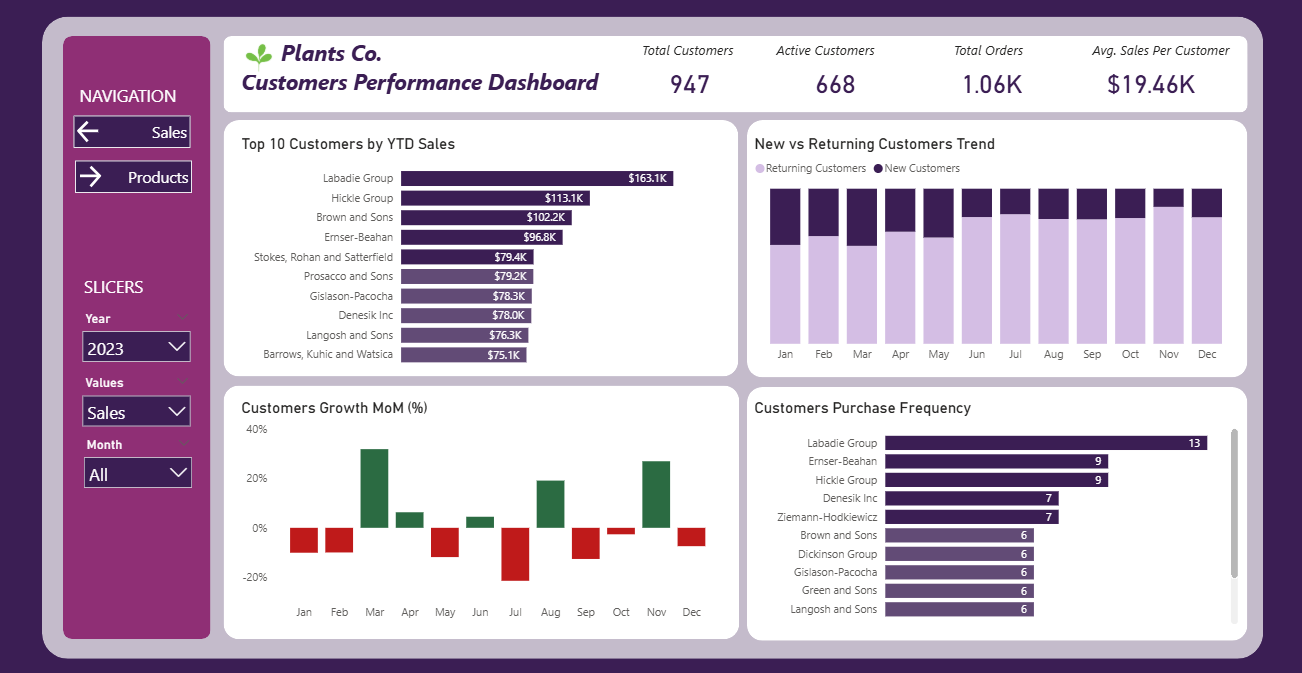

What the dashboard file says about the page in this screenshot:
{"tool":"powerbi","page":{"name":"Customers Performance","canvas":[1450,750],"ordinal":1},"visuals":[{"type":"shape","box":[47.1,17.6,1356.9,713.7],"z":0},{"type":"shape","box":[70,40,164,670],"z":1000},{"type":"shape","box":[248,40,1138,85],"z":2000},{"type":"textbox","box":[264,36,412,98],"z":3000},{"type":"image","box":[218.3,40,138.3,48.3],"z":4000},{"type":"cardVisual","fields":{"Data":["_Measures.Total_Customers","_Measures.Active_Customers_YTD","_Measures.Total Orders","_Measures.Avg_Sales_per_ActiveCustomer_YTD"]},"box":[726.2,60,660,60],"z":5000},{"type":"textbox","box":[698.3,40,131.7,50],"z":6000},{"type":"textbox","box":[834,40,168,58],"z":7000},{"type":"textbox","box":[1200,40,180,57.5],"z":8000},{"type":"textbox","box":[1018,40,160,42],"z":9000},{"type":"shape","box":[830,134,556,286],"z":10000},{"type":"shape","box":[248,134,572,285],"z":11000},{"type":"shape","box":[248,428,573,282],"z":12000},{"type":"shape","box":[830,430,556,282],"z":13000},{"type":"clusteredBarChart","title":"Top 10 Customers by YTD Sales","fields":{"Y":["_Measures.YTD_Sales"],"Category":["Dim_Accounts.Account"]},"box":[263.3,150,541.7,266.7],"z":14000},{"type":"clusteredBarChart","title":"Customers Purchase Frequency ","fields":{"Category":["Dim_Accounts.Account"],"Y":["_Measures.Total Orders"]},"box":[845,443.3,535,266.7],"z":15000},{"type":"hundredPercentStackedColumnChart","title":"New vs Returning Customers Trend","fields":{"Y":["_Measures.Returning Customers Per Month","_Measures.New Customers Per Month"],"Category":["Dim_Date.Short Month"]},"box":[845,150,535,261.7],"z":16000},{"type":"slicer","fields":{"Values":["Slc_Values.Values"]},"box":[82,412,140,90],"z":17000},{"type":"slicer","fields":{"Values":["Dim_Date.Year"]},"box":[82,340,140,90],"z":18000},{"type":"columnChart","title":"Customers Growth MoM (%)","fields":{"Y":["_Measures.Customer Growth MoM %"],"Category":["Dim_Date.Short Month"]},"box":[262.7,443.1,541.2,254.9],"z":19000},{"type":"textbox","box":[84,88,130,40],"z":20000},{"type":"slicer","fields":{"Values":["Dim_Date.Month"]},"box":[84,480,140,90],"z":21000},{"type":"actionButton","box":[82,128,130,36],"z":22000},{"type":"actionButton","box":[84,178,130,36],"z":23000},{"type":"textbox","box":[88,300,130,40],"z":24000}]}

Visuals, with their boxes in screenshot pixels (x1, y1, x2, y2), scaled from the page's 1450x750 canvas onto the 1302x673 screenshot:
shape: <box>42,16,1261,656</box>
shape: <box>63,36,210,637</box>
shape: <box>223,36,1245,112</box>
textbox: <box>237,32,607,120</box>
image: <box>196,36,320,79</box>
cardVisual - _Measures.Total_Customers x _Measures.Active_Customers_YTD: <box>652,54,1245,108</box>
textbox: <box>627,36,745,81</box>
textbox: <box>749,36,900,88</box>
textbox: <box>1078,36,1239,87</box>
textbox: <box>914,36,1058,74</box>
shape: <box>745,120,1245,377</box>
shape: <box>223,120,736,376</box>
shape: <box>223,384,737,637</box>
shape: <box>745,386,1245,639</box>
"Top 10 Customers by YTD Sales" clusteredBarChart: <box>236,135,723,374</box>
"Customers Purchase Frequency " clusteredBarChart: <box>759,398,1239,637</box>
"New vs Returning Customers Trend" hundredPercentStackedColumnChart: <box>759,135,1239,369</box>
slicer - Slc_Values.Values: <box>74,370,199,450</box>
slicer - Dim_Date.Year: <box>74,305,199,386</box>
"Customers Growth MoM (%)" columnChart: <box>236,398,722,626</box>
textbox: <box>75,79,192,115</box>
slicer - Dim_Date.Month: <box>75,431,201,511</box>
actionButton: <box>74,115,190,147</box>
actionButton: <box>75,160,192,192</box>
textbox: <box>79,269,196,305</box>
